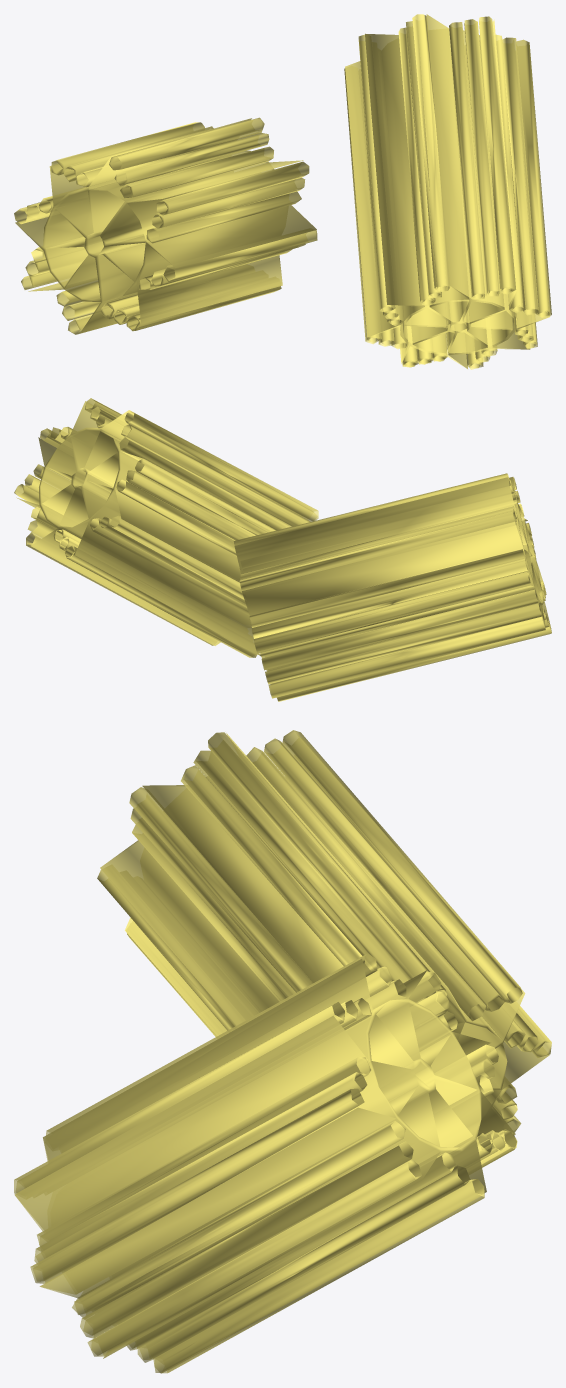
File: Sentrozom.fbx
3 views of the same model, one above another, from view 1: azimuth 30°, elevation 25°; view 2: azimuth 150°, elevation 25°; view 3: azimuth 270°, elevation 25° (orthographic). The views are drawn at different scales.
Visible parts, largest first — view 1: Sentrozom; view 2: Sentrozom; view 3: Sentrozom.
Boxes of the visible parts, box(x1,y1,x2,y2) form: Sentrozom: box(14, 14, 551, 369); Sentrozom: box(14, 398, 551, 701); Sentrozom: box(14, 730, 551, 1373).
Size of the model in its own units: 88.36 by 47.47 by 53.68.
